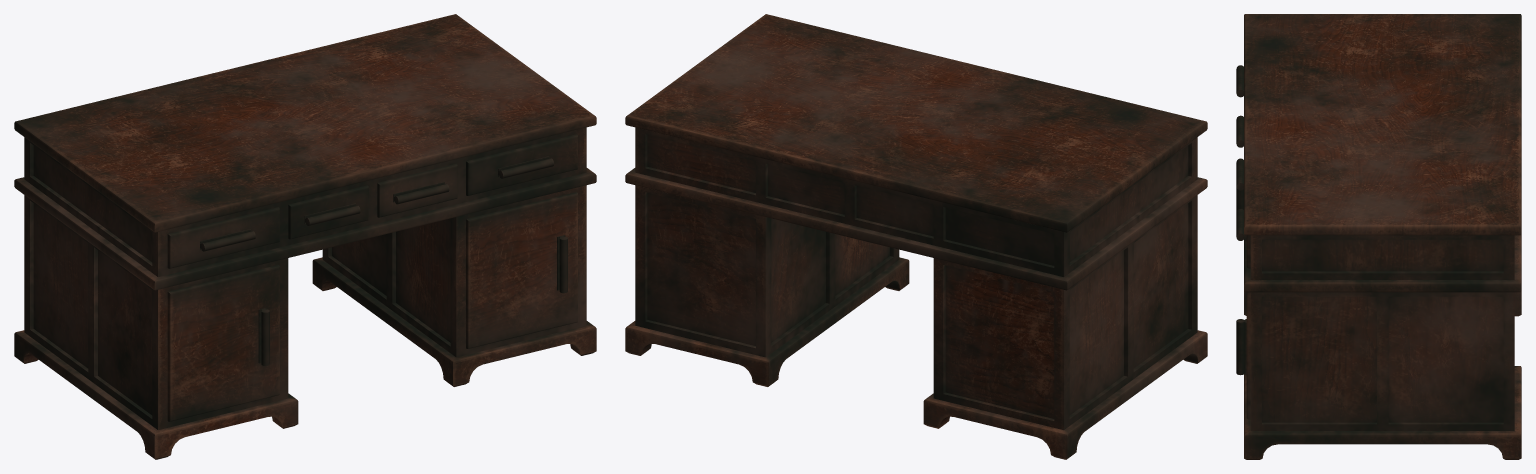
The model's file is shrine_desk_01.fbx.
3 views of the same model, side by side, from view 1: azimuth 30°, elevation 25°; view 2: azimuth 150°, elevation 25°; view 3: azimuth 270°, elevation 25° (orthographic).
Visible parts, largest first — view 1: shrine_desk_01; view 2: shrine_desk_01; view 3: shrine_desk_01.
Part boxes in pixels (x1,y1,x2,y2): shrine_desk_01: (14, 14, 596, 459); shrine_desk_01: (625, 14, 1207, 459); shrine_desk_01: (1236, 14, 1521, 459).
Size of the model in its own units: 238 by 123 by 135.
1 material, 1 textured.
